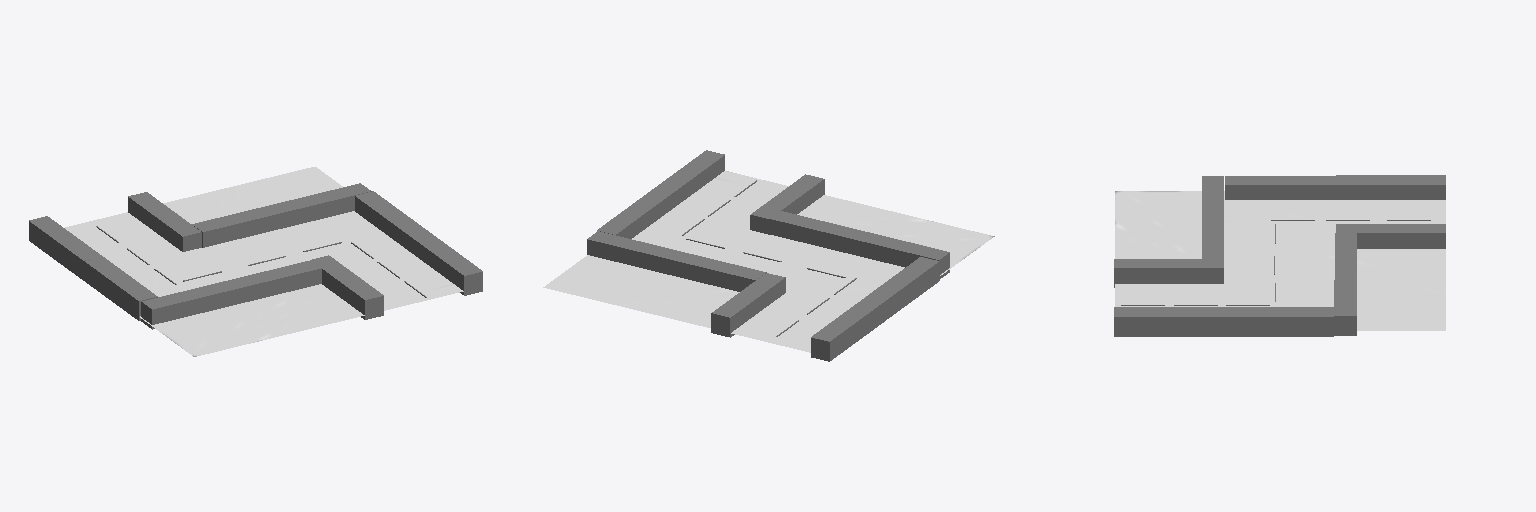
3 views of the same model, side by side, from view 1: azimuth 30°, elevation 25°; view 2: azimuth 150°, elevation 25°; view 3: azimuth 270°, elevation 25° (orthographic).
Visible parts, largest first — view 1: 平面_平面.002; view 2: 平面_平面.002; view 3: 平面_平面.002.
Boxes of the visible parts, x1,y1,x2,y2 form: 平面_平面.002: [29, 167, 482, 356]; 平面_平面.002: [543, 150, 994, 361]; 平面_平面.002: [1114, 175, 1445, 336].
Size of the model in its own units: 6.06 by 0.4 by 6.02.
Materials: 1 (1 with a texture image).